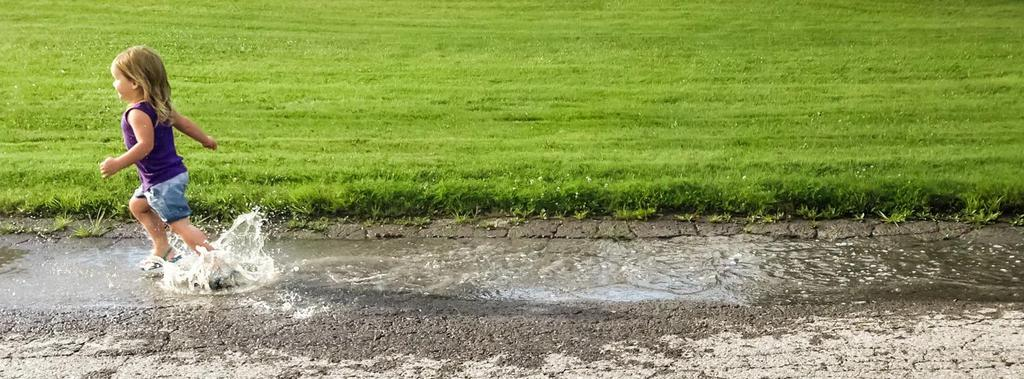child: (66, 41, 248, 286)
